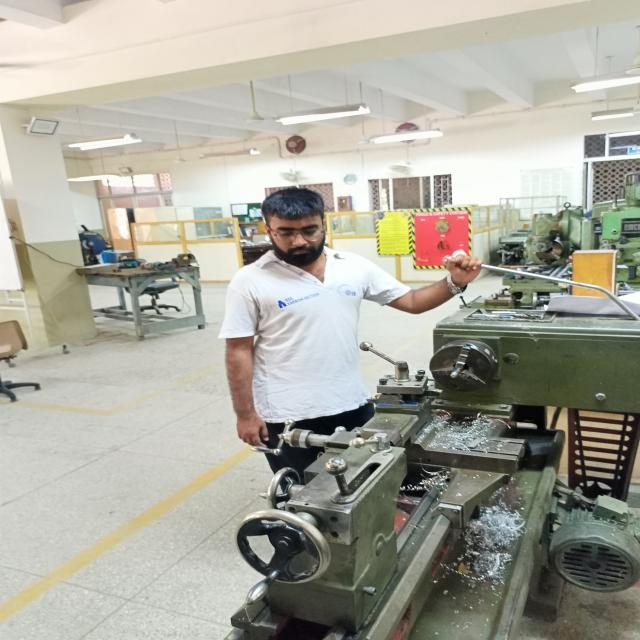dress: (216, 238, 408, 491)
glasses: (261, 224, 336, 243)
